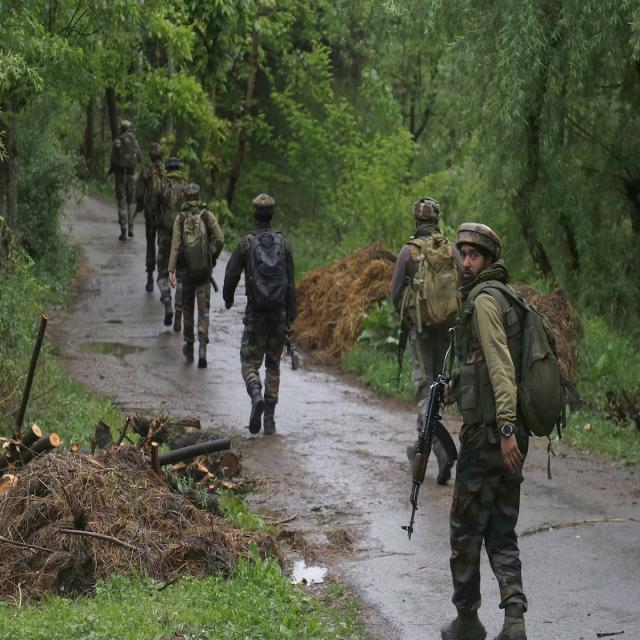Forest: (7, 6, 633, 626)
Militant: (446, 210, 545, 619), (386, 182, 471, 511), (220, 172, 302, 443), (177, 170, 225, 364), (162, 151, 192, 335), (137, 138, 169, 310), (104, 112, 142, 250)
